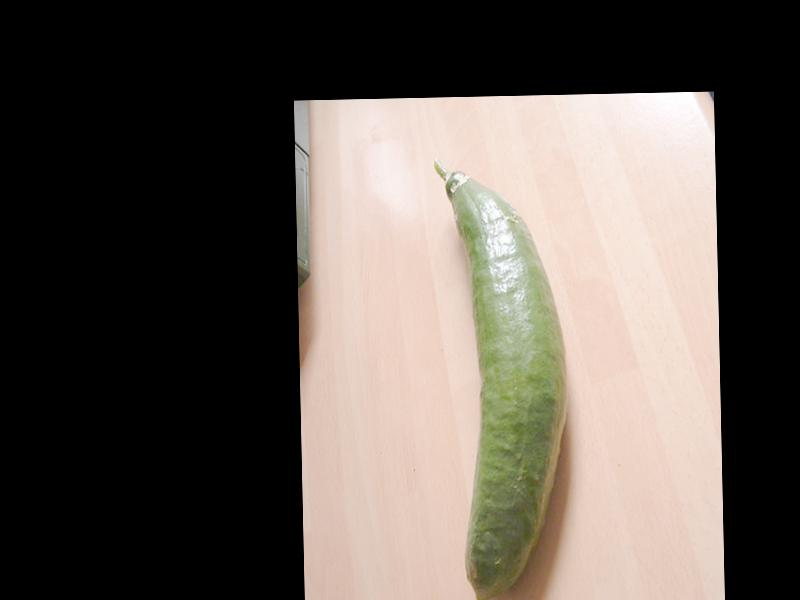Cucumber: (434, 156, 574, 600)
